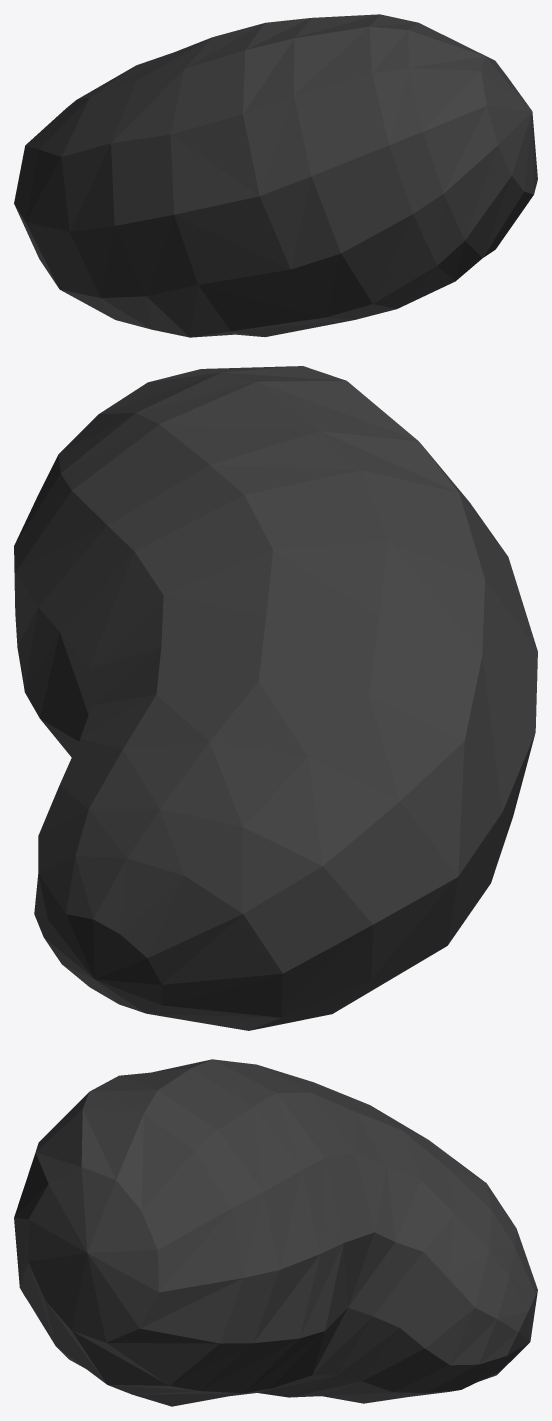
The model's file is Kidney_R.glb.
The picture shows the model from 3 angles, top to bottom: view 1: azimuth 30°, elevation 25°; view 2: azimuth 150°, elevation 25°; view 3: azimuth 270°, elevation 25°; orthographic projection. The views are drawn at different scales.
Parts seen in each view (by area): view 1: Kidney_R; view 2: Kidney_R; view 3: Kidney_R.
Boxes of the visible parts, left/top/right/bottom form: Kidney_R: left=14, top=14, right=537, bottom=337; Kidney_R: left=14, top=366, right=537, bottom=1030; Kidney_R: left=14, top=1059, right=537, bottom=1406.
Size of the model in its own units: 47.34 by 37.48 by 51.43.
Materials: 1 (1 with a texture image).
